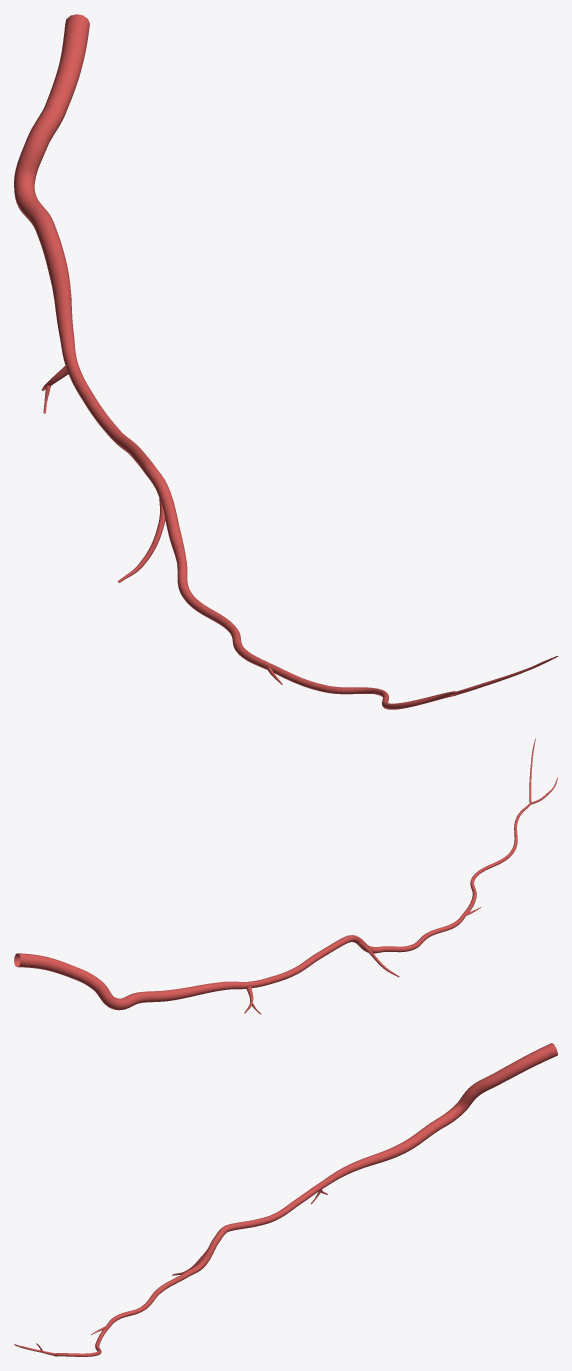
3 views of the same model, one above another, from view 1: azimuth 30°, elevation 25°; view 2: azimuth 150°, elevation 25°; view 3: azimuth 330°, elevation 25° (orthographic). The views are drawn at different scales.
Parts seen in each view (by area): view 1: 左侧内眦动脉; view 2: 左侧内眦动脉; view 3: 左侧内眦动脉.
Part boxes in pixels (x1=…): 左侧内眦动脉: x1=14, y1=14, x2=557, y2=709; 左侧内眦动脉: x1=14, y1=738, x2=557, y2=1014; 左侧内眦动脉: x1=14, y1=1043, x2=557, y2=1356.
Size of the model in its own units: 0.0448 by 0.0297 by 0.1665.
